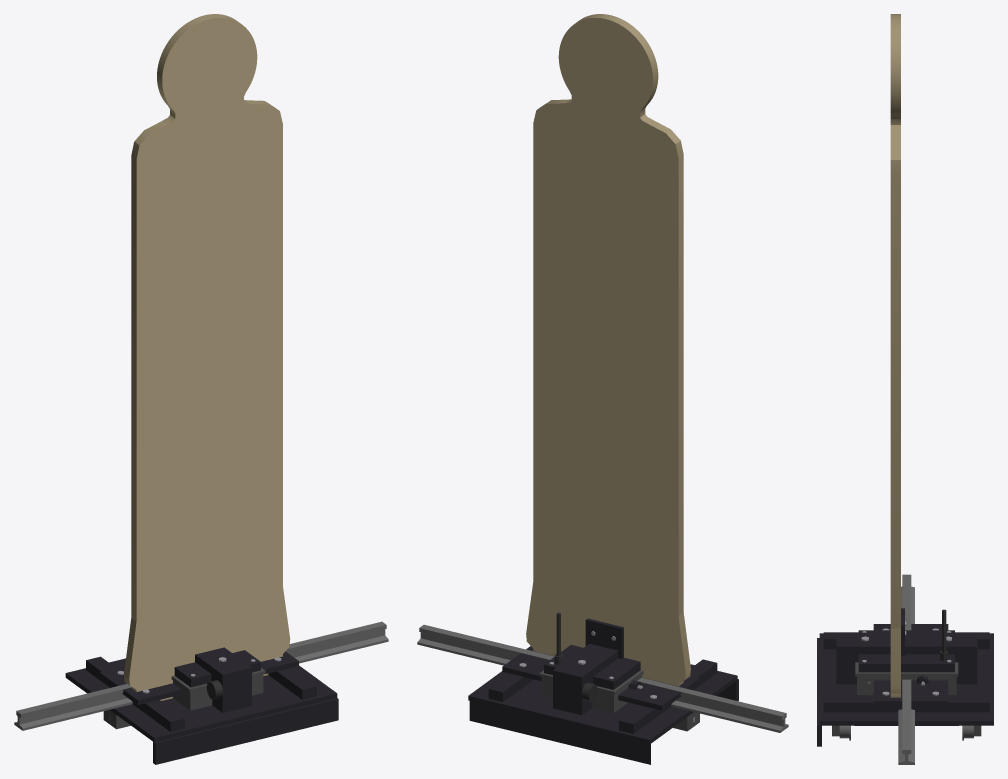
Rendered from figure_target.glb.
The picture shows the model from 3 angles, left to right: view 1: azimuth 30°, elevation 25°; view 2: azimuth 150°, elevation 25°; view 3: azimuth 270°, elevation 25°; orthographic projection.
Parts seen in each view (by area): view 1: Peg, PegCrouched, Trolley, Rail, PegBase, RailStop, MotorBox; view 2: Peg, PegCrouched, Trolley, Rail, PegBase, RailStop, MotorBox; view 3: Peg, Trolley, PegBase, RailStop, MotorBox, Rail, PegCrouched.
Boxes of the visible parts, x1=… form: Peg: x1=131, y1=14, x2=282, y2=691; PegCrouched: x1=124, y1=255, x2=290, y2=700; Trolley: x1=65, y1=658, x2=338, y2=764; Rail: x1=14, y1=621, x2=388, y2=730; PegBase: x1=86, y1=651, x2=316, y2=731; RailStop: x1=195, y1=647, x2=251, y2=712; MotorBox: x1=171, y1=650, x2=265, y2=710; Peg: x1=533, y1=14, x2=683, y2=686; PegCrouched: x1=526, y1=253, x2=690, y2=683; Trolley: x1=468, y1=664, x2=738, y2=764; Rail: x1=417, y1=624, x2=788, y2=732; PegBase: x1=488, y1=646, x2=717, y2=733; RailStop: x1=553, y1=643, x2=618, y2=715; MotorBox: x1=539, y1=612, x2=643, y2=712; Peg: x1=890, y1=14, x2=906, y2=697; Trolley: x1=817, y1=633, x2=993, y2=746; PegBase: x1=823, y1=624, x2=989, y2=712; RailStop: x1=835, y1=632, x2=977, y2=684; MotorBox: x1=854, y1=609, x2=958, y2=725; Rail: x1=898, y1=574, x2=914, y2=764; PegCrouched: x1=890, y1=628, x2=900, y2=695.
Size of the model in its own units: 1 by 1.84 by 0.426.
